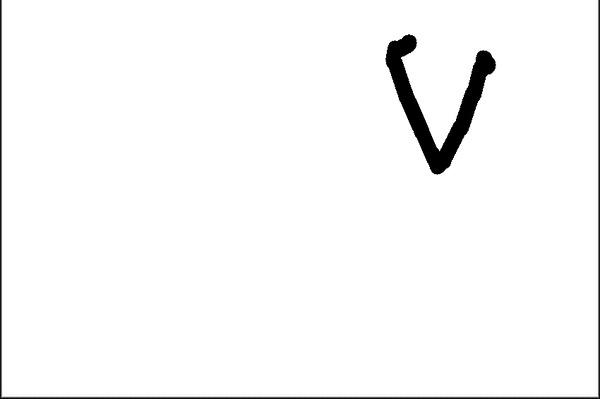V: (377, 31, 511, 175)
